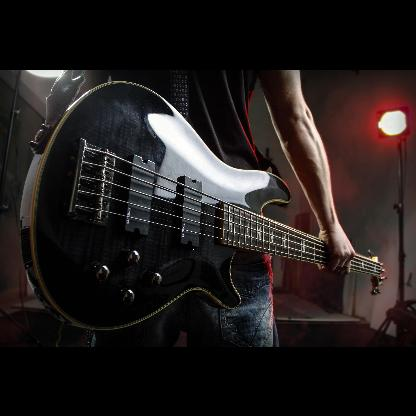bass: (17, 79, 387, 331)
